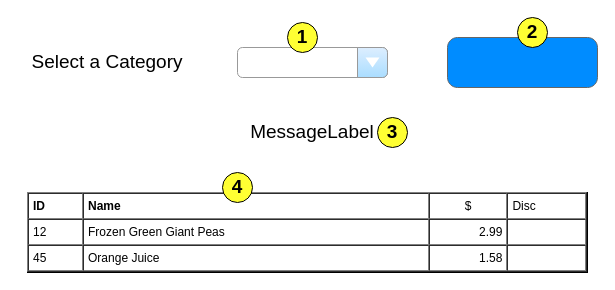
The diagram is 615 pixels wide and 290 high, and some of its shapes have lost their labels. The box of each missing label's shape, as (x1, y1, x2, y2) in pixels:
Fetch: (446, 36, 598, 88)
Frozen: (236, 46, 388, 78)
